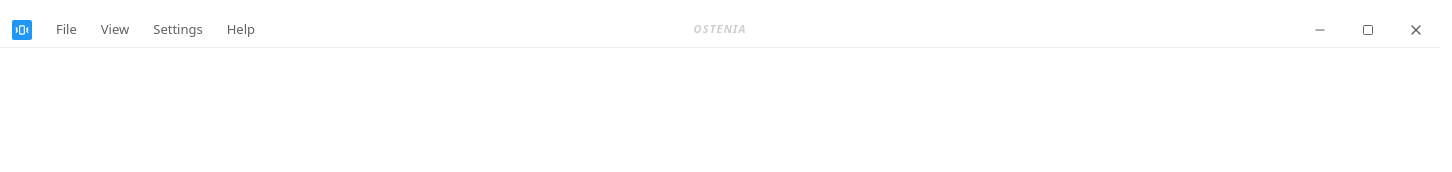
MenuBar Component › opens and closes menus
What coordinates should you click on to do the following:
click the button "File"
I would click on:
 (66, 30)
Its box is [44,12,89,47].
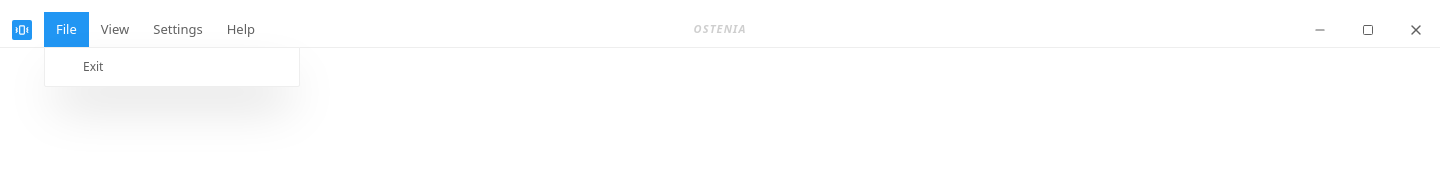
Expected: the text "Exit" is shown, [83,58,104,76]
What coordinates should you click on to do the following:
click the button "File"
I would click on:
 (66, 30)
Its box is [44,12,89,47].
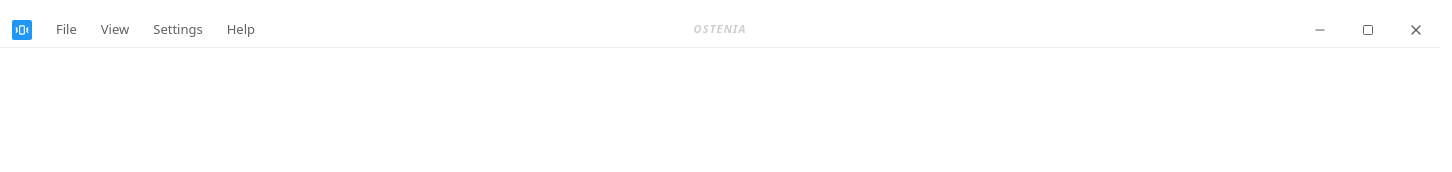
Expected: the button "Exit" is gone
